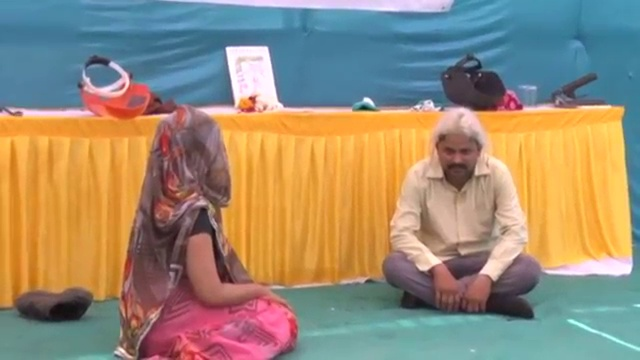helmet_off: (148, 107, 232, 209), (432, 109, 483, 185)
person: (115, 105, 299, 360), (380, 106, 544, 323)
